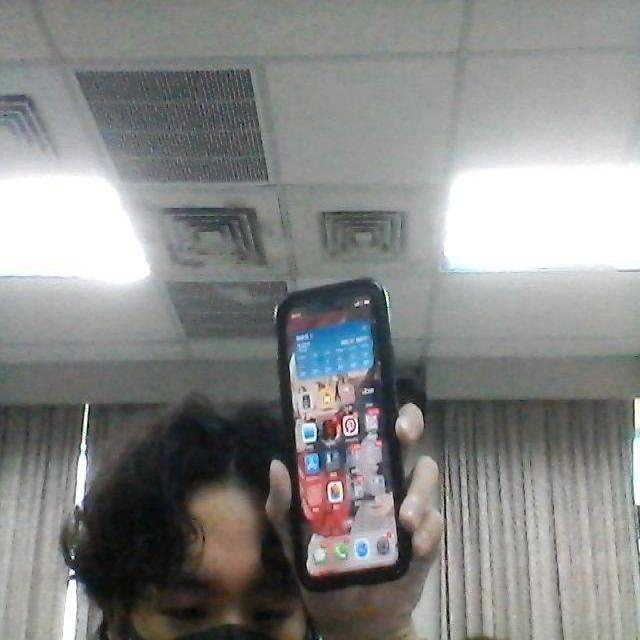smart phone: (265, 272, 435, 616)
